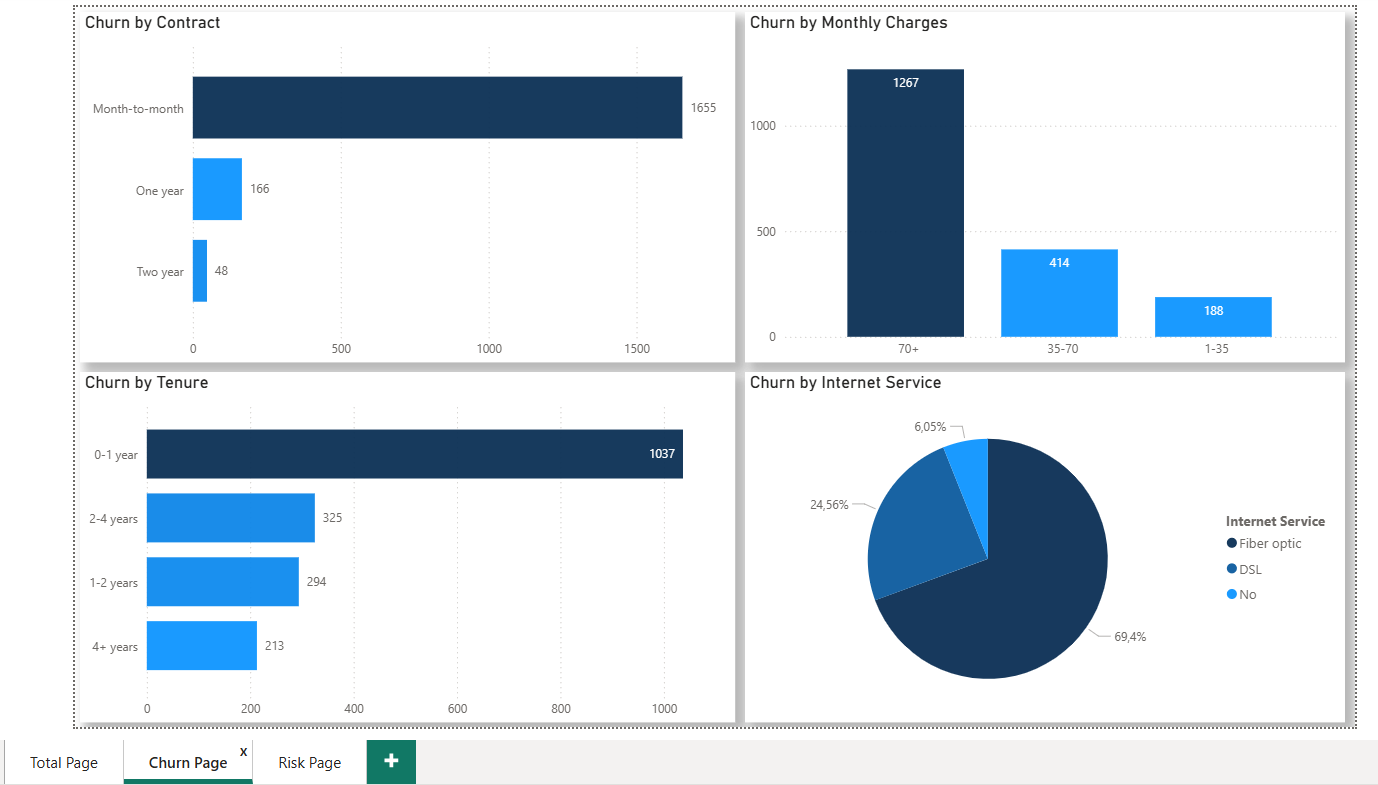

The dashboard page shown, as its layout file describes it:
{"tool":"powerbi","page":{"name":"Churn Page","canvas":[1280,720],"ordinal":1},"visuals":[{"type":"barChart","title":"Churn by Contract","fields":{"Category":["churn_final.Contract"],"Y":["churn_final.churn_yes"]},"box":[5,5,655,350],"z":0},{"type":"columnChart","title":"Churn by Monthly Charges","fields":{"Y":["churn_final.churn_yes"],"Category":["churn_final.monthly_charge_group"]},"box":[670,5,600,350],"z":1000},{"type":"barChart","fields":{"Y":["churn_final.churn_yes"],"Category":["churn_final.tenure_group"]},"box":[5,365,655,350],"z":2000},{"type":"pieChart","fields":{"Y":["churn_final.churn_yes"],"Category":["churn_final.InternetService"]},"box":[670,365,600,350],"z":3000}]}

Visuals, with their boxes on the page's 1280x720 design canvas (x1, y1, x2, y2). These are canvas units, not pixel positions in the 1378x785 screenshot, which may show the page scaled, cropped or inside an application window:
"Churn by Contract" barChart: x1=5, y1=5, x2=660, y2=355
"Churn by Monthly Charges" columnChart: x1=670, y1=5, x2=1270, y2=355
barChart - churn_final.churn_yes x churn_final.tenure_group: x1=5, y1=365, x2=660, y2=715
pieChart - churn_final.churn_yes x churn_final.InternetService: x1=670, y1=365, x2=1270, y2=715
